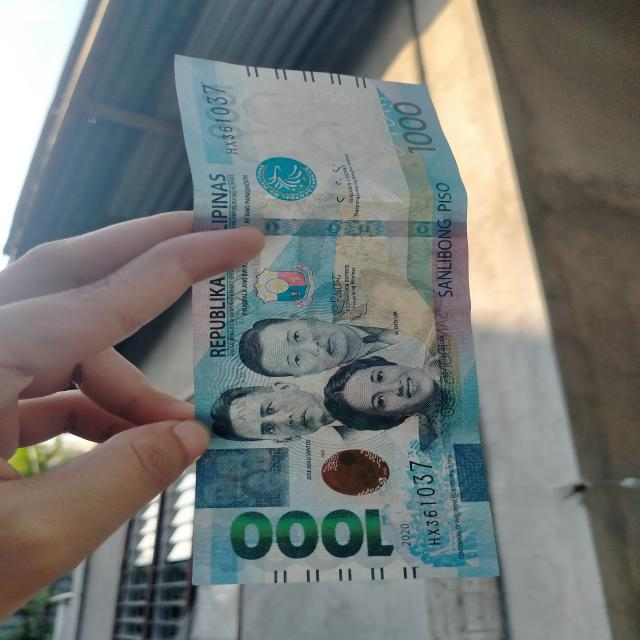concealed_value: (194, 446, 291, 509)
optically_variable_device: (308, 442, 404, 508)
security_thread: (191, 214, 470, 241)
see_through_mark: (365, 91, 412, 166)
serial_number: (399, 450, 450, 560), (192, 81, 247, 161)
value_watermark: (307, 89, 367, 108)
watermark: (234, 91, 380, 162)
